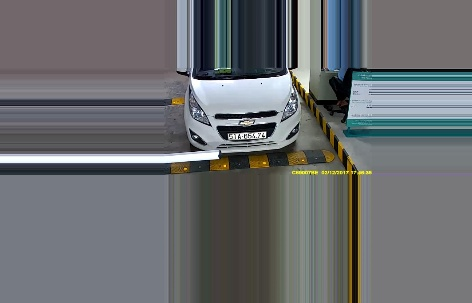plate: (225, 129, 268, 143)
